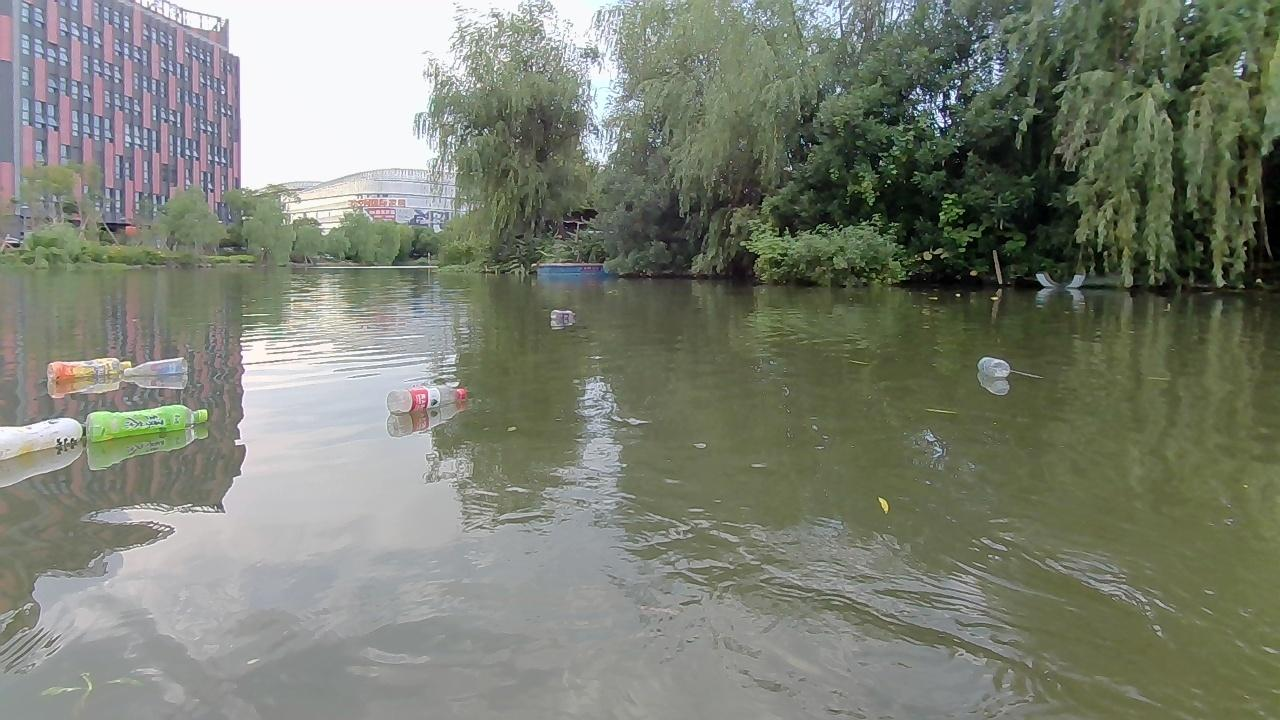bottle: (84, 399, 207, 443), (0, 414, 89, 455), (48, 356, 131, 387), (384, 387, 472, 414), (119, 352, 187, 382), (976, 350, 1019, 383), (551, 303, 575, 323)
